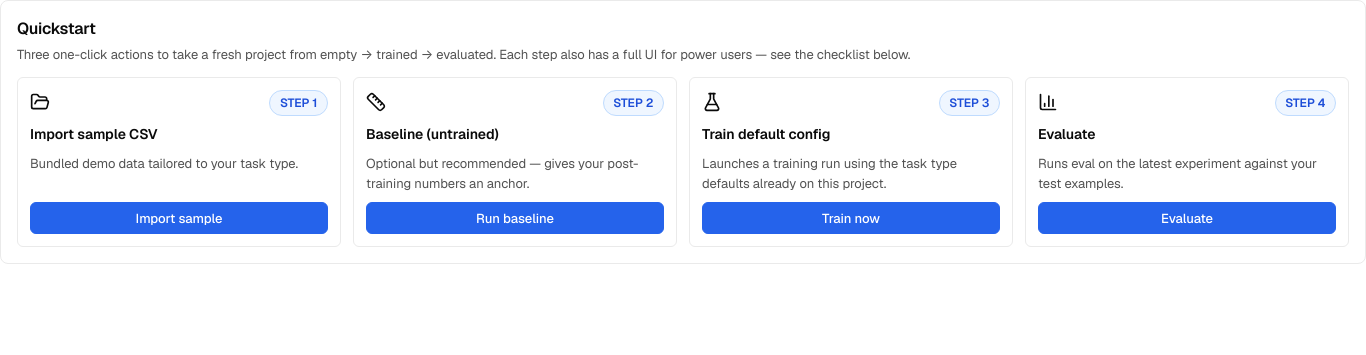
Test: QuickstartCard › dismissing the import→train nudge PUTs the dismissal back to the project
Click the button with test id "quickstart-import-button". click: point(179, 218)
box: [30,202,328,234]
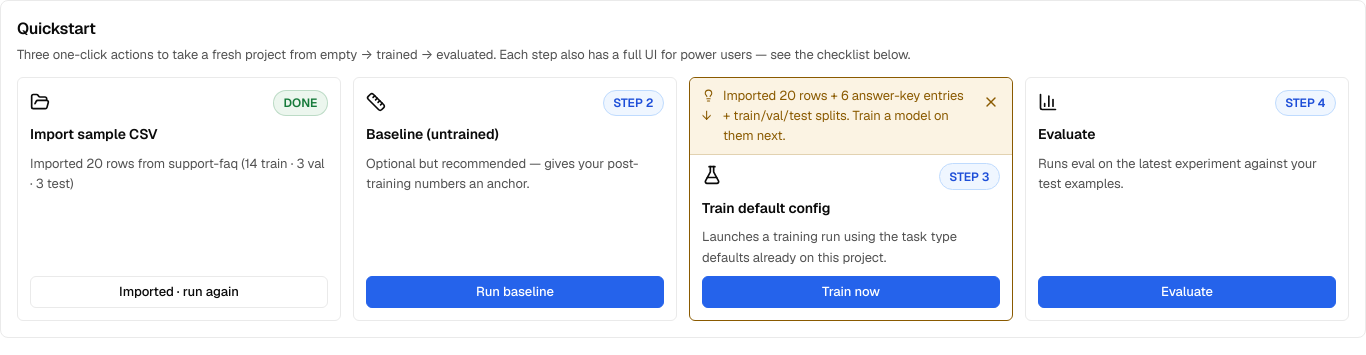
Expected: the message with test id "quickstart-train-nudge" is shown, [690,78,1012,155]
Click the button with test id "quickstart-train-nudge-dismiss". click: point(991, 102)
box: [982,86,1000,118]
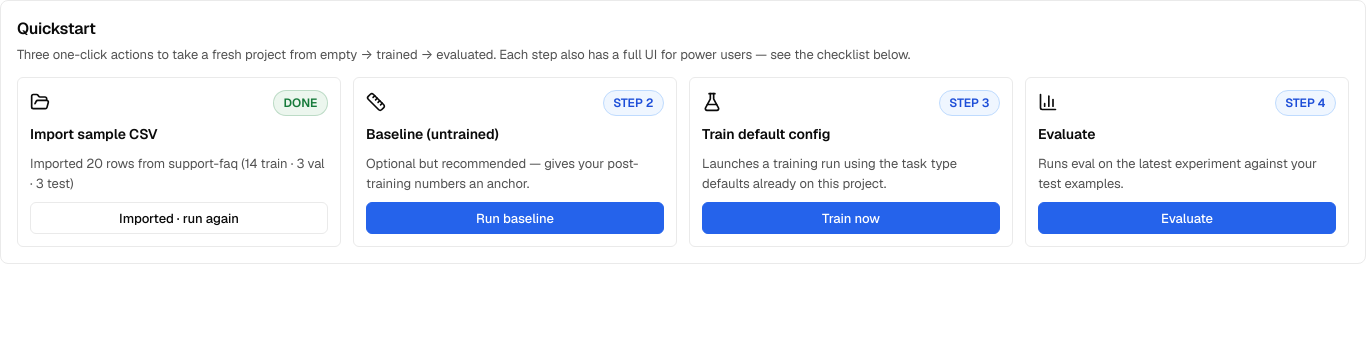
Expected: the message with test id "quickstart-train-nudge" is gone
